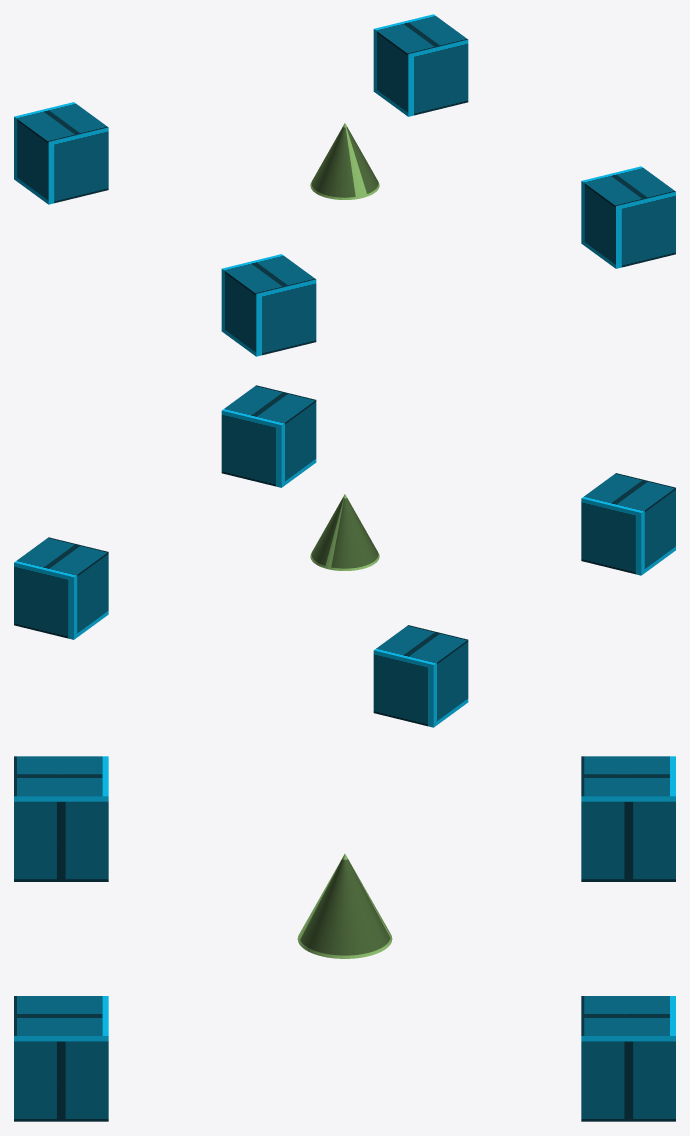
File: ExportScene1.glb
3 renders of one model, top to bottom at view 1: azimuth 30°, elevation 25°; view 2: azimuth 150°, elevation 25°; view 3: azimuth 270°, elevation 25°, orthographic. The views are drawn at different scales.
Visible parts, largest first — view 1: Box2, Box4, Box1, Box3, MeshInstance; view 2: Box1, Box3, Box2, Box4, MeshInstance; view 3: Box1, Box2, Box3, Box4, MeshInstance.
Part boxes in pixels (x1=…): Box2: x1=221, y1=254, x2=316, y2=356; Box4: x1=373, y1=14, x2=468, y2=116; Box1: x1=581, y1=166, x2=675, y2=268; Box3: x1=14, y1=102, x2=108, y2=204; MeshInstance: x1=310, y1=123, x2=379, y2=199; Box1: x1=221, y1=385, x2=316, y2=487; Box3: x1=373, y1=625, x2=468, y2=727; Box2: x1=581, y1=473, x2=675, y2=575; Box4: x1=14, y1=537, x2=108, y2=639; MeshInstance: x1=310, y1=494, x2=379, y2=570; Box1: x1=14, y1=996, x2=108, y2=1121; Box2: x1=14, y1=756, x2=108, y2=881; Box3: x1=581, y1=756, x2=675, y2=881; Box4: x1=581, y1=996, x2=675, y2=1121; MeshInstance: x1=297, y1=854, x2=392, y2=958.
Size of the model in its own units: 7 by 1.5 by 7.
Materials: 2 (2 with a texture image).
